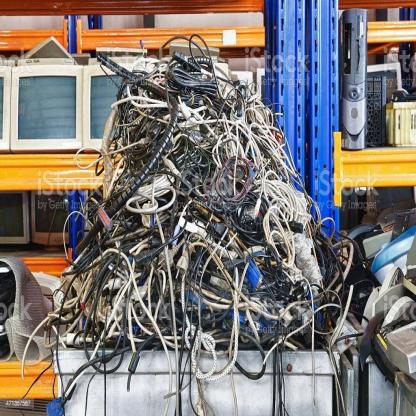wires: (20, 31, 365, 414)
